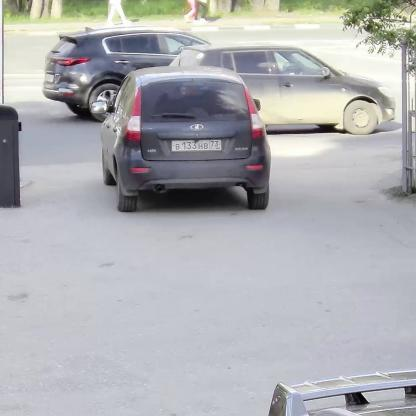plate: (170, 139, 222, 150)
